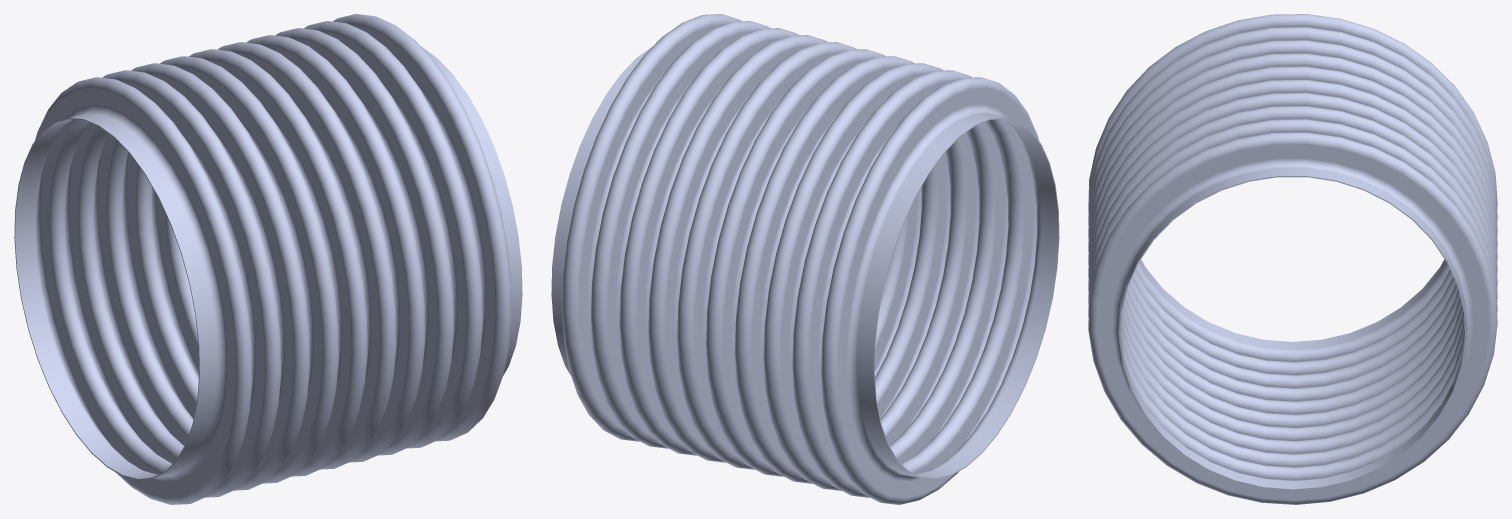
The picture shows the model from 3 angles, left to right: view 1: azimuth 30°, elevation 25°; view 2: azimuth 150°, elevation 25°; view 3: azimuth 270°, elevation 25°; orthographic projection. The views are drawn at different scales.
Visible parts, largest first — view 1: AS.P003; view 2: AS.P003; view 3: AS.P003.
Part boxes in pixels (x1,y1,x2,y2): AS.P003: (14, 14, 522, 504); AS.P003: (551, 14, 1059, 504); AS.P003: (1088, 14, 1497, 504).
Bounding box in the file's own units: 280 × 329 × 329.
